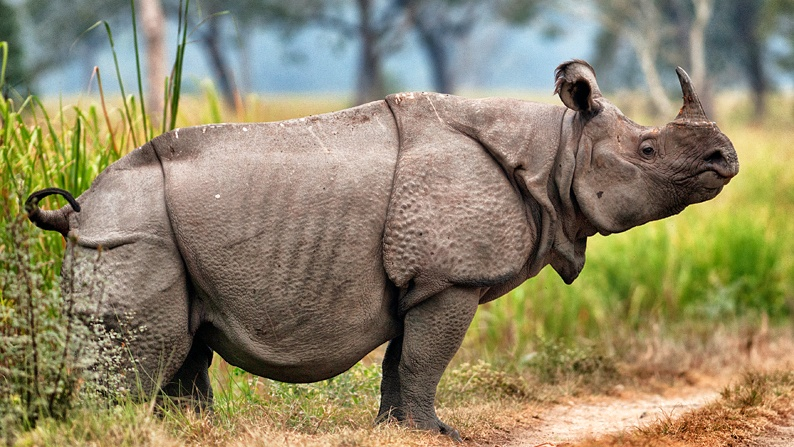rhinoceros: (38, 65, 747, 416)
